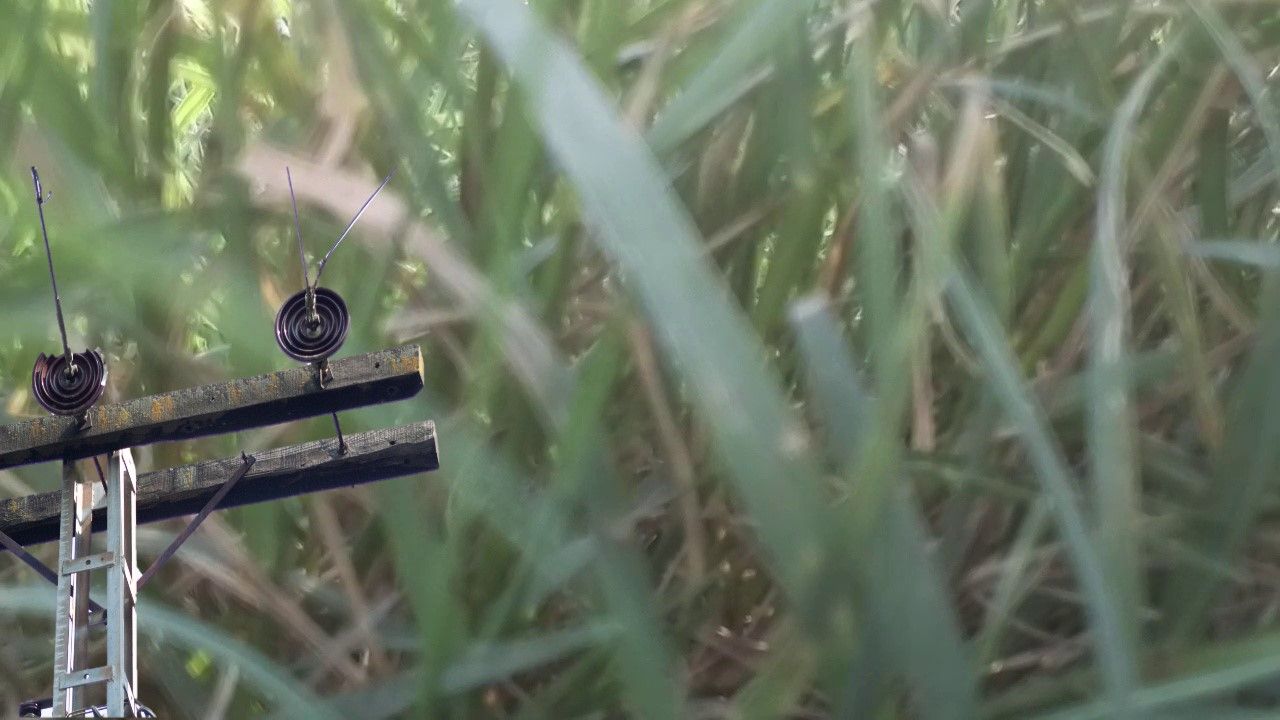defect_disc: (29, 338, 114, 416)
insulator_disc: (274, 284, 354, 362)
